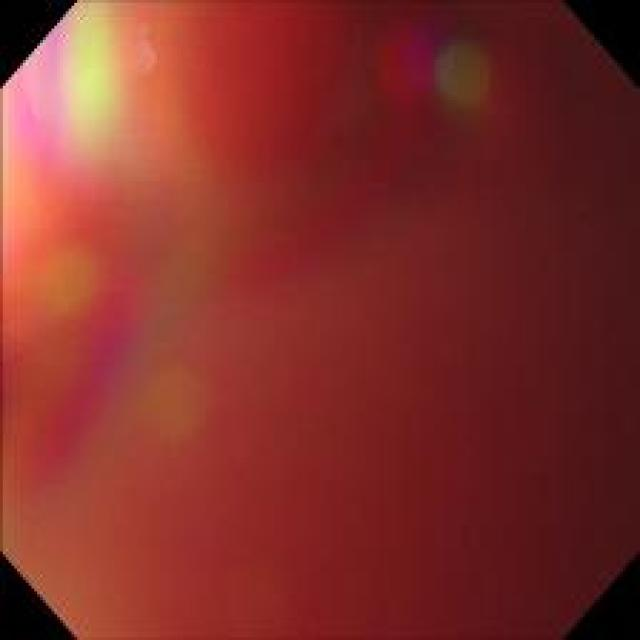color misalignment: (1, 0, 638, 635), (371, 34, 562, 164), (16, 9, 129, 165), (24, 245, 126, 351), (130, 361, 220, 449)
